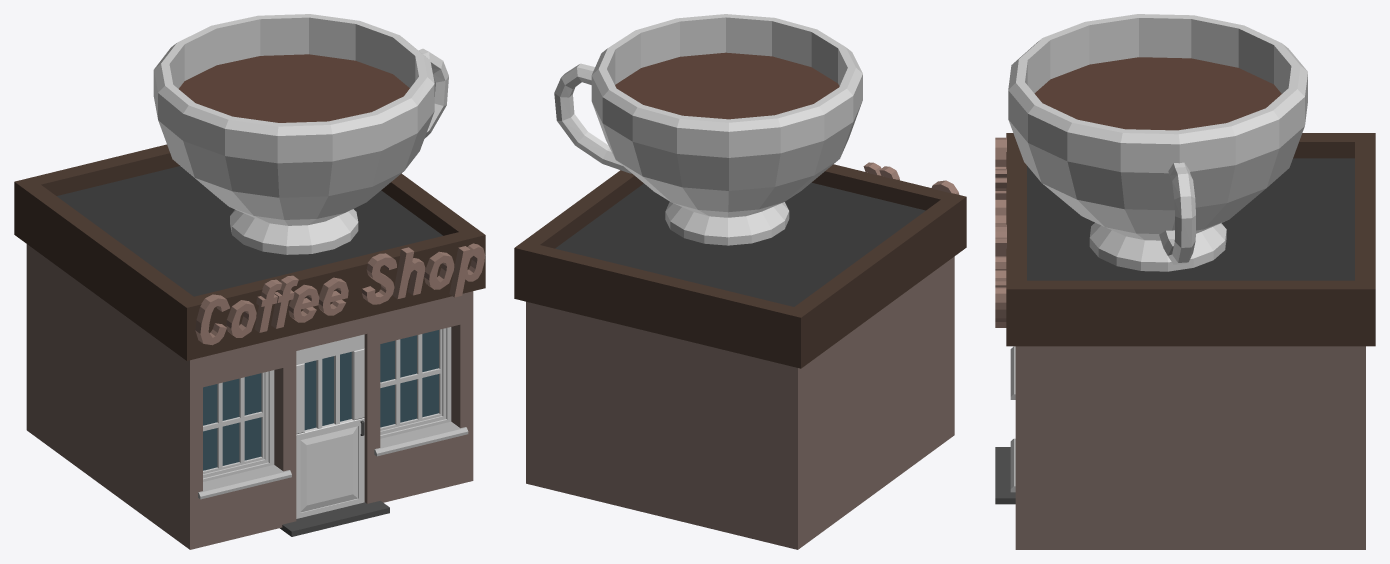
The model's file is kiosk-cafe.glb.
3 renders of one model, left to right at view 1: azimuth 30°, elevation 25°; view 2: azimuth 150°, elevation 25°; view 3: azimuth 270°, elevation 25°, orthographic. The views are drawn at different scales.
Visible parts, largest first — view 1: caffeeshop; view 2: caffeeshop; view 3: caffeeshop.
Boxes of the visible parts, x1=… form: caffeeshop: x1=14, y1=14, x2=485, y2=549; caffeeshop: x1=514, y1=14, x2=966, y2=549; caffeeshop: x1=995, y1=14, x2=1375, y2=549.
Size of the model in its own units: 4.86 by 5.29 by 4.34.
1 material, 1 textured.
